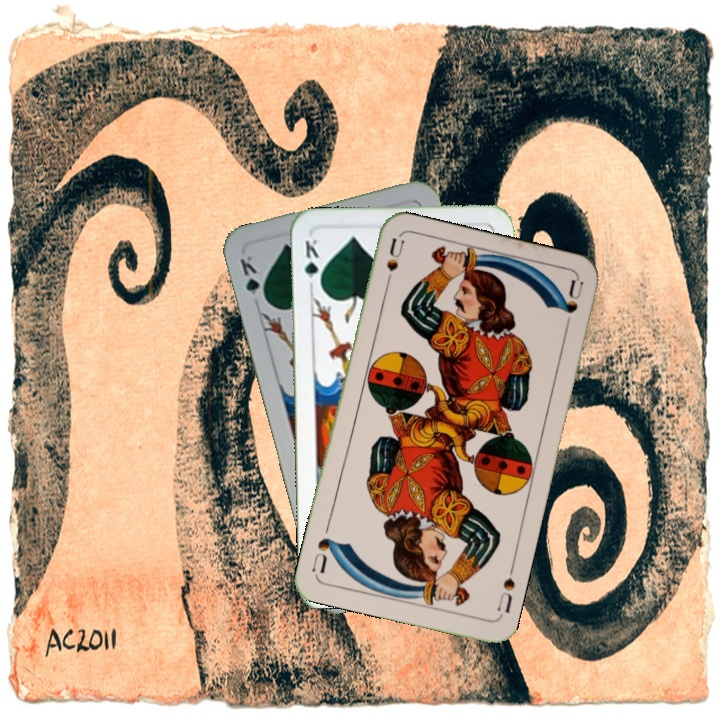GK: (236, 251, 269, 306), (300, 235, 323, 292)
SU: (380, 235, 407, 294), (493, 561, 518, 616)
